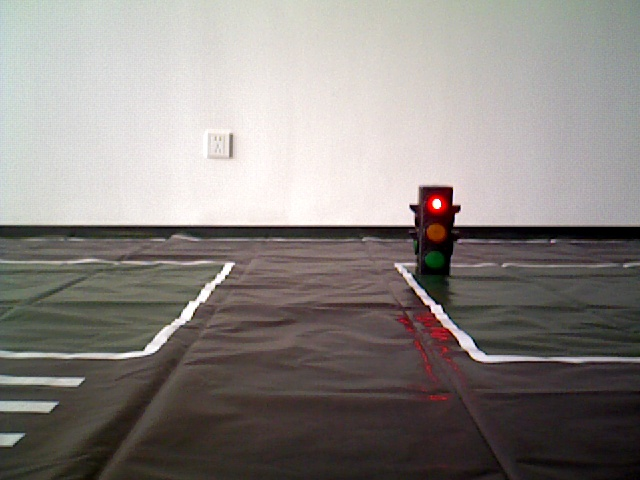red: (419, 187, 450, 271)
